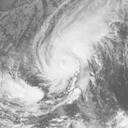cyclone: (31, 27, 95, 97)
